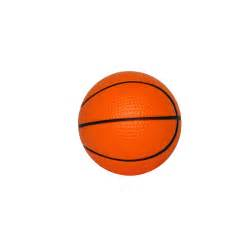basketball: (77, 70, 183, 178)
